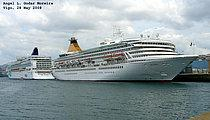Ship: (54, 35, 201, 84), (7, 52, 53, 80)
